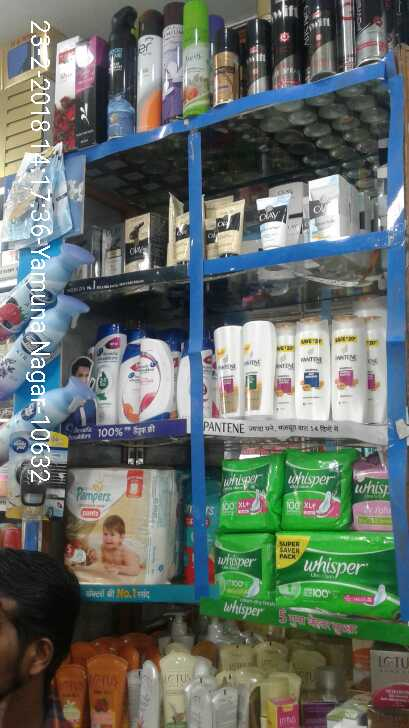ambipureVesus: (1, 295, 92, 383), (2, 149, 69, 243), (1, 392, 102, 448), (5, 454, 64, 519), (1, 263, 84, 291)
